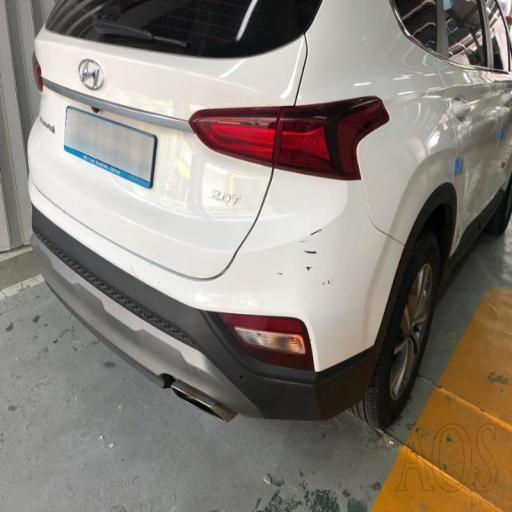broken: (218, 156, 413, 356)
